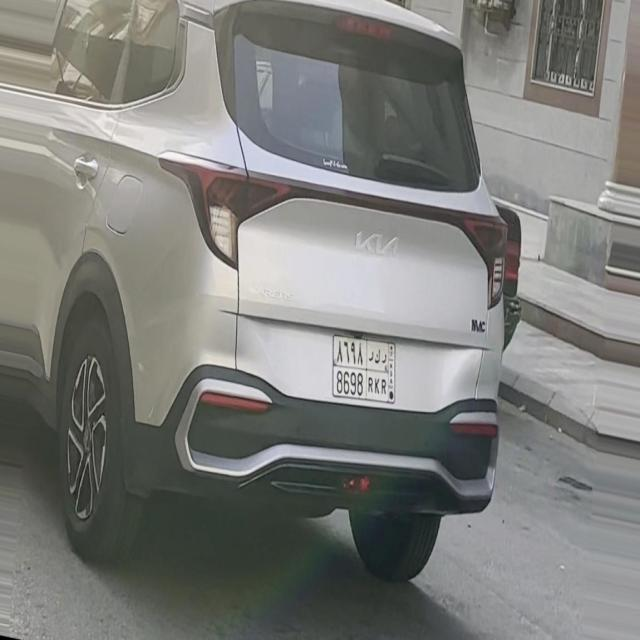Car-plate: (326, 324, 406, 410)
